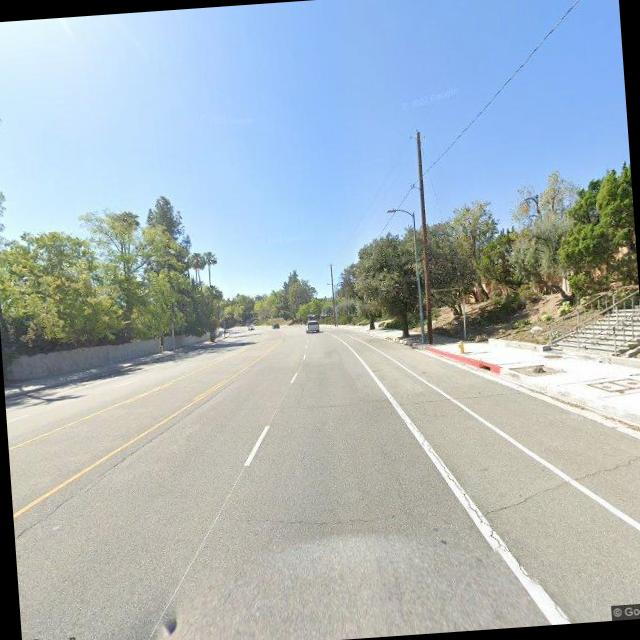crack: (388, 387, 536, 596), (475, 440, 640, 516), (255, 505, 382, 534)
